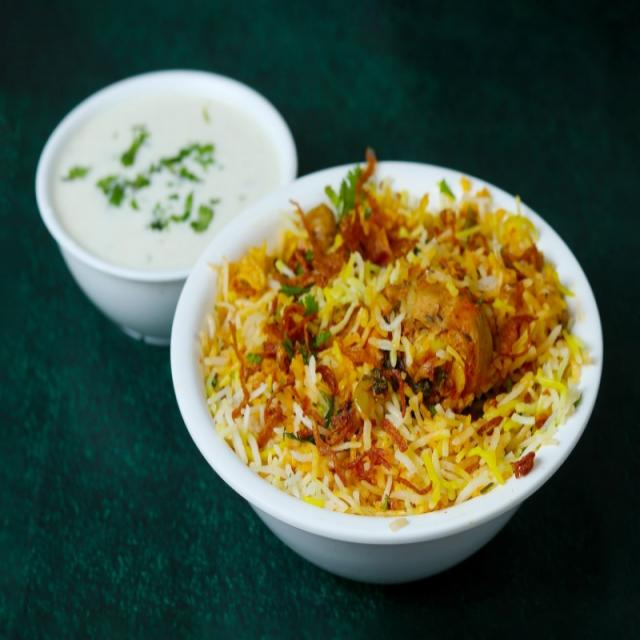Biryani: (206, 163, 594, 532)
